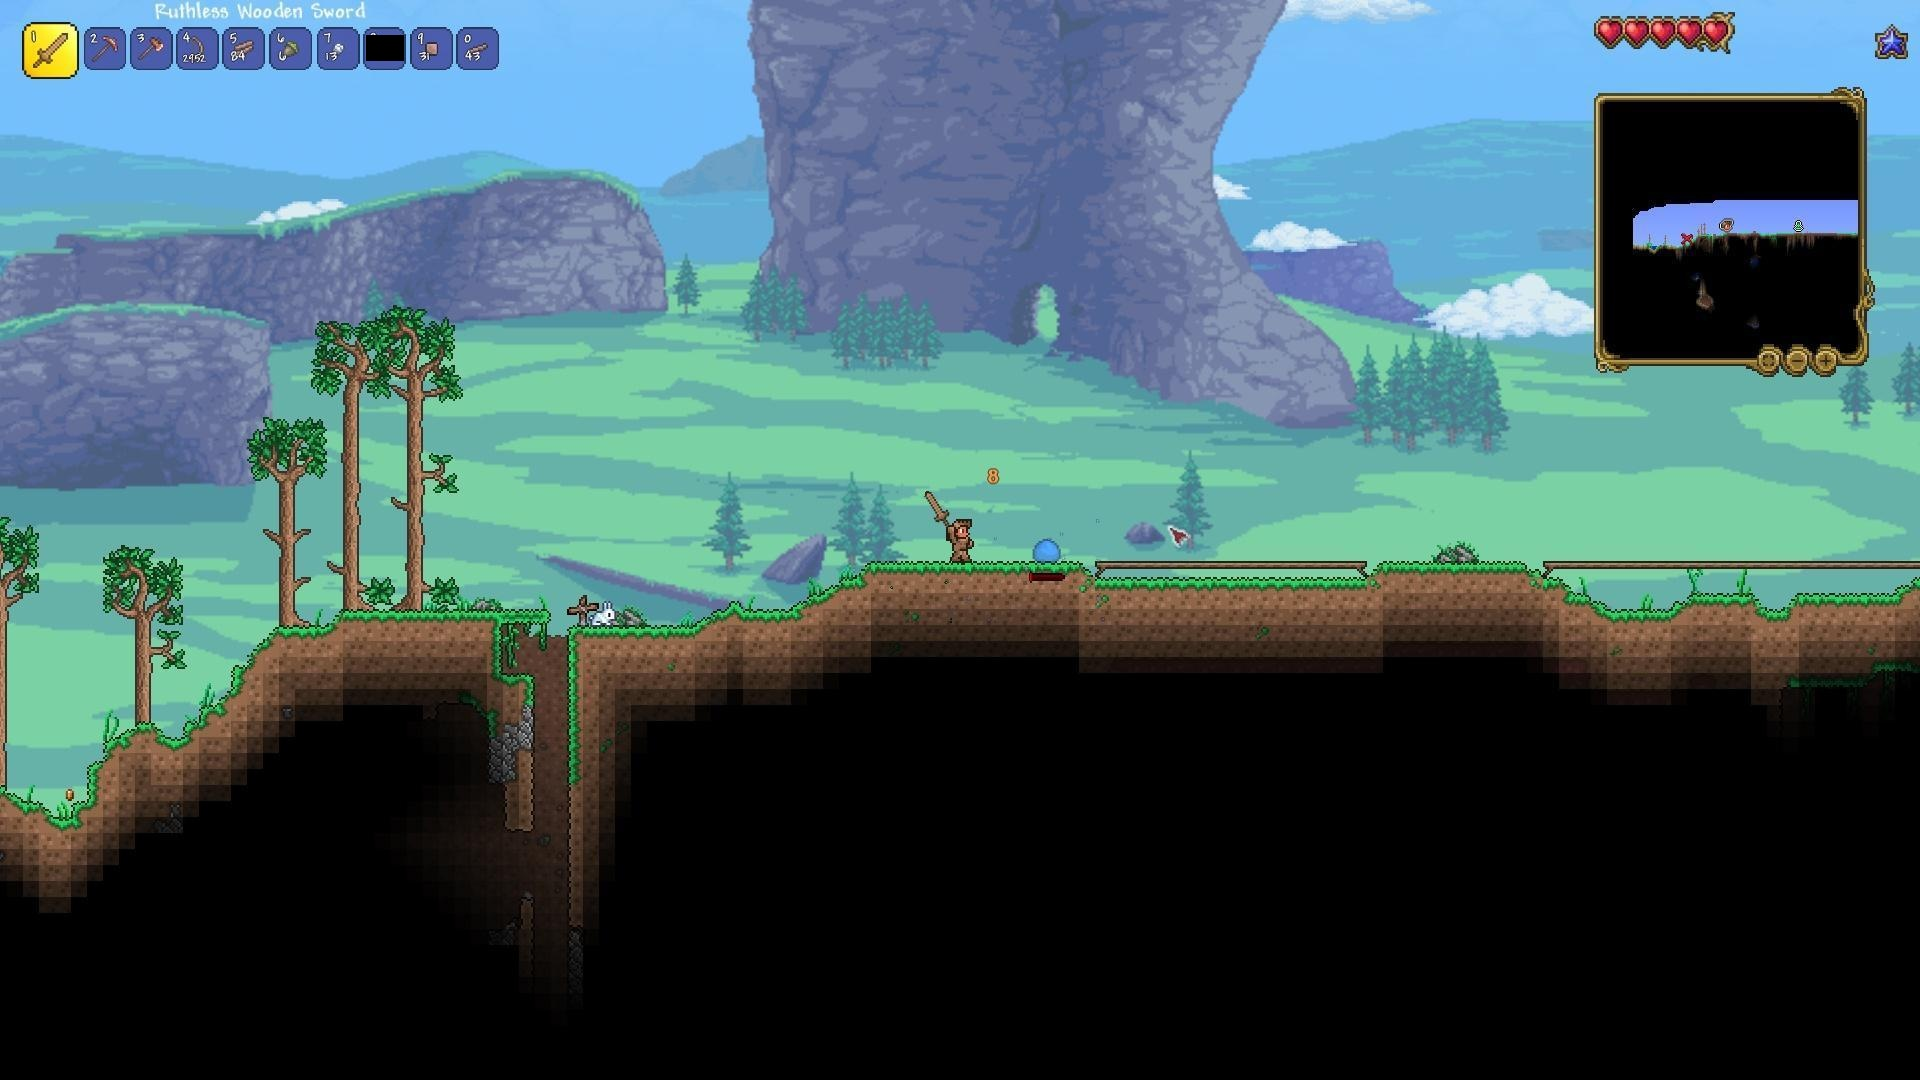slime: (1029, 534, 1064, 562)
wood: (227, 33, 258, 63)
